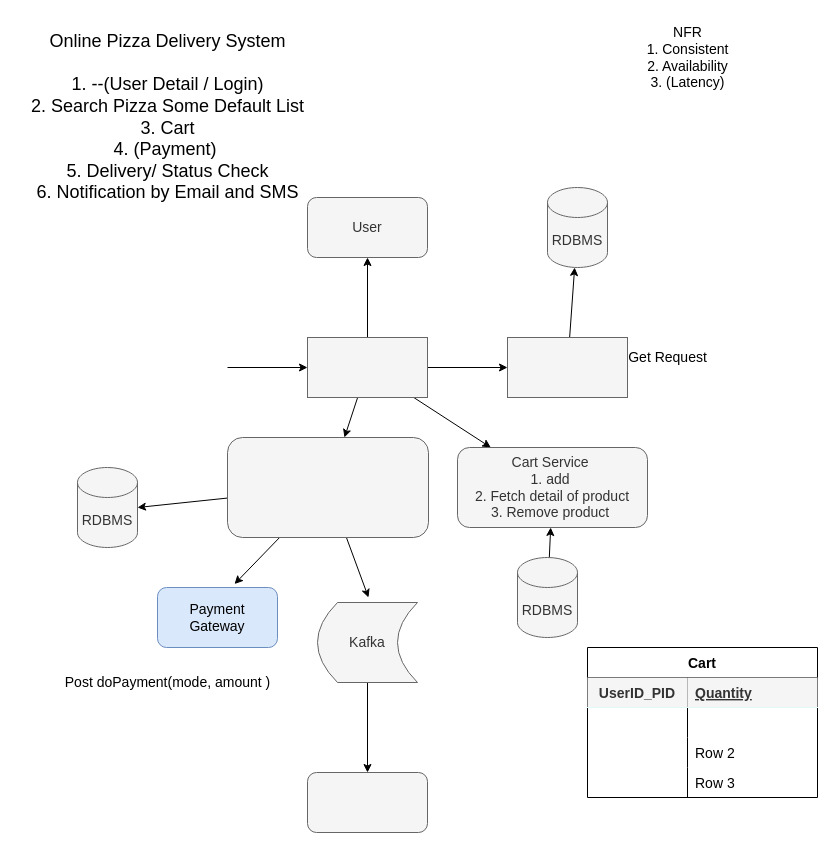
Image size: 835x850. Some labels were removed from this diagram. Each missing label, with the centre of its shape:
API Gateway: the point at 367,367
Filter Service: the point at 567,367
Order Detail PlaceOrder(OrderDetail ): the point at 327,487
Order Status / Notification Service: the point at 367,802
